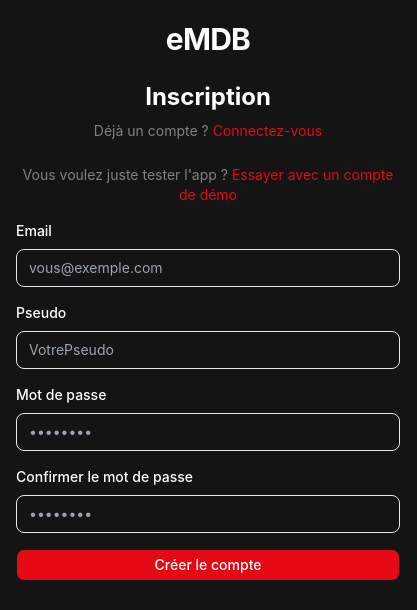
Test: Authentication — Register › affiche une erreur pour password < 8
The width and height of the screenshot is (417, 610).
Type "test@test.com" into the field named "email" at coordinates (208, 268), box x1=16 y1=249 x2=400 y2=287
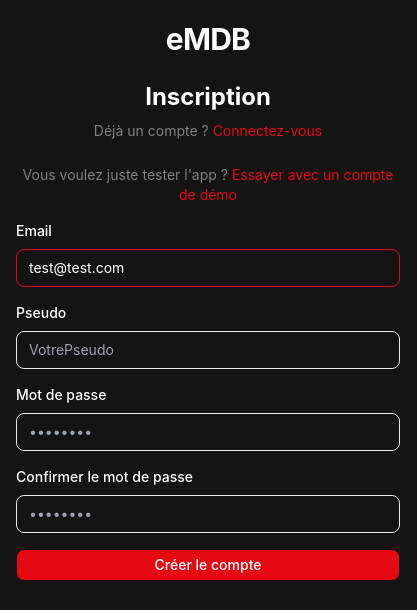
Type "TestUser" into the field named "pseudo" at coordinates (208, 350), box x1=16 y1=331 x2=400 y2=369
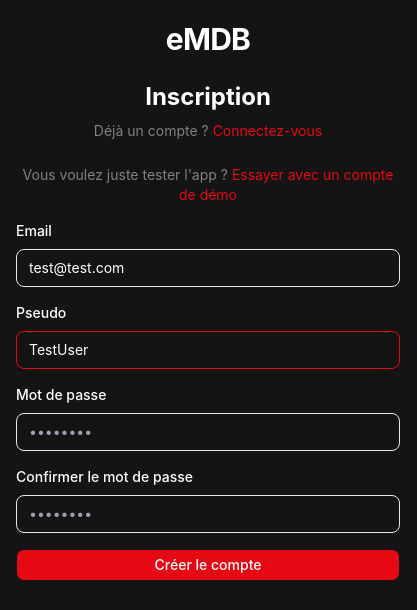
Type "short" into the password field named "password" at coordinates (208, 432), box x1=16 y1=413 x2=400 y2=451
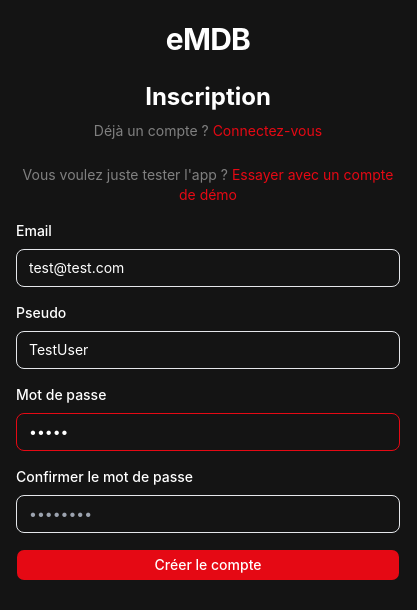
Type "short" into the password field named "confirmPassword" at coordinates (208, 514), box x1=16 y1=495 x2=400 y2=533
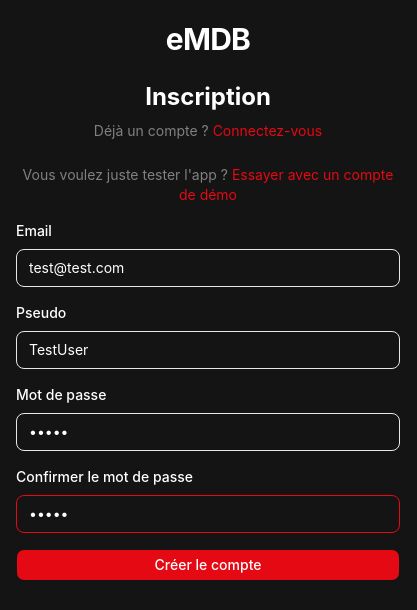
Click the button "Créer le compte" at coordinates (208, 565), box x1=16 y1=549 x2=400 y2=581
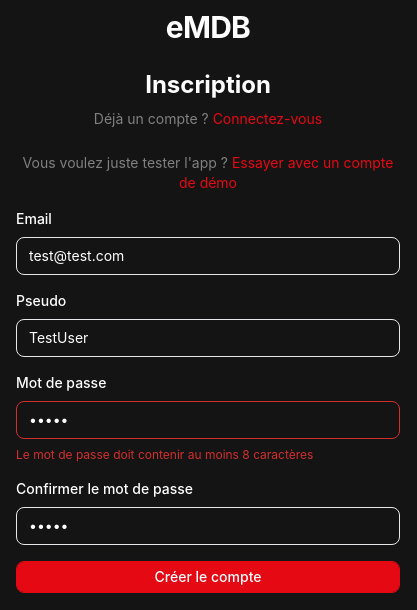
Check: the text "Le mot de passe doit contenir au moins 8 caractères" is shown, box x1=16 y1=447 x2=313 y2=462
